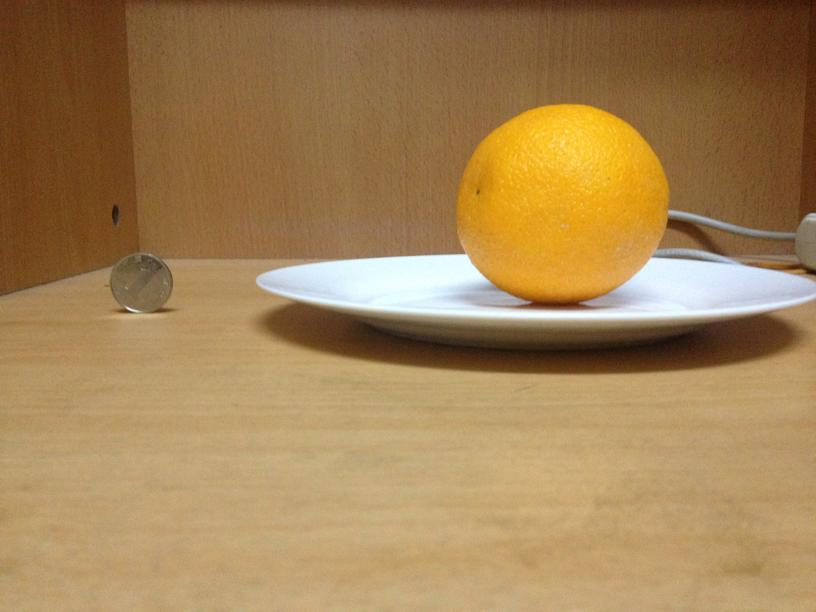coin: (109, 254, 174, 312)
orange: (450, 102, 671, 302)
